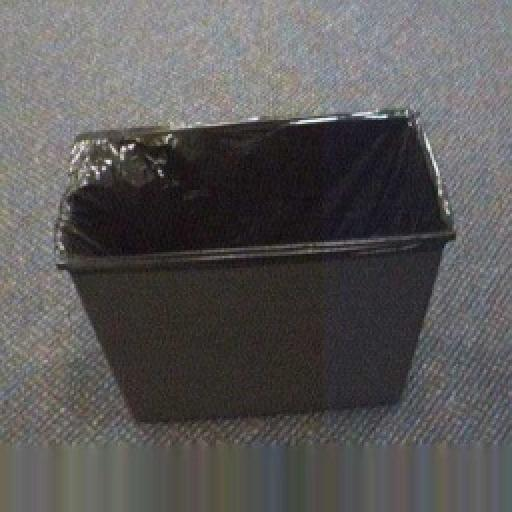trash-can: (56, 99, 465, 444)
